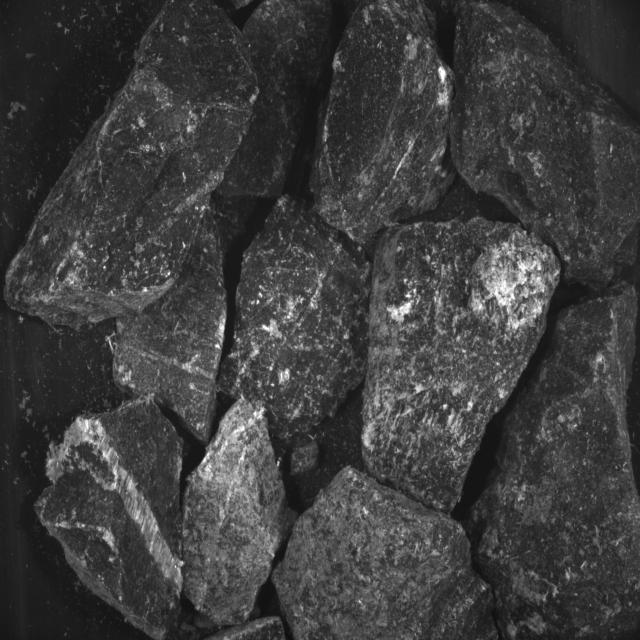Stones: (6, 3, 259, 328), (470, 287, 640, 639), (364, 219, 560, 514), (451, 4, 640, 287), (274, 468, 497, 640), (221, 197, 371, 439), (36, 398, 184, 639), (315, 1, 455, 245), (114, 213, 227, 444), (184, 400, 287, 626), (220, 1, 332, 199), (207, 618, 286, 640)
